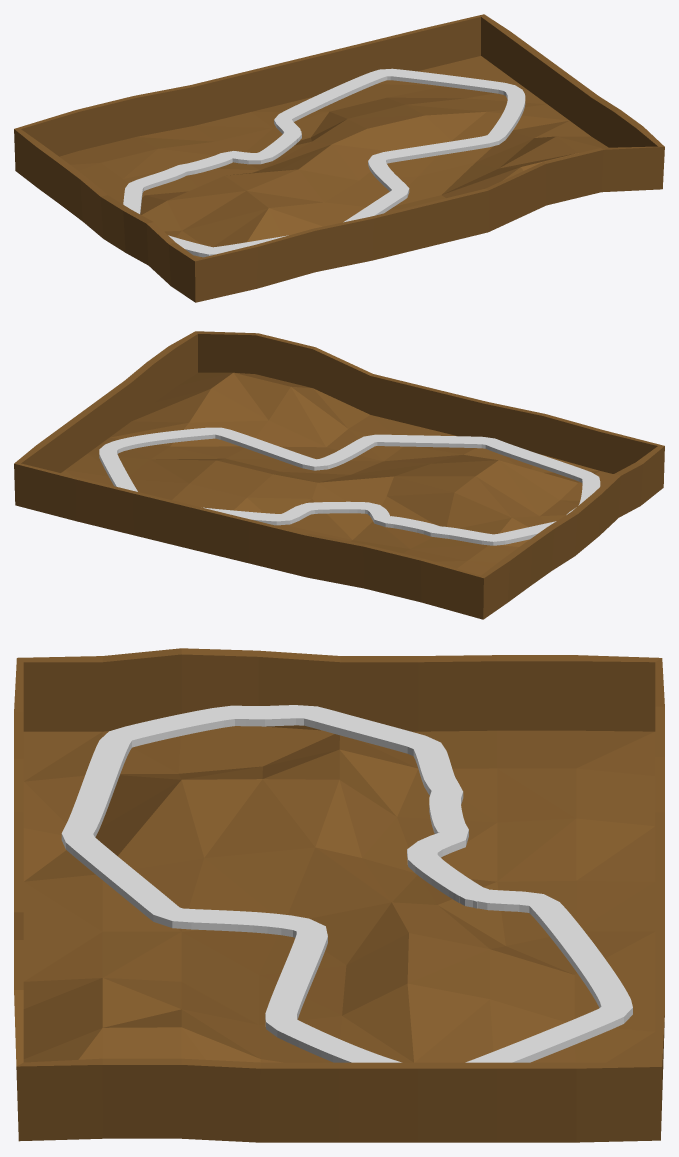
The model's file is tracktwo.fbx.
3 views of the same model, one above another, from view 1: azimuth 30°, elevation 25°; view 2: azimuth 150°, elevation 25°; view 3: azimuth 270°, elevation 25° (orthographic). The views are drawn at different scales.
Parts seen in each view (by area): view 1: Plane.001, Plane; view 2: Plane.001, Plane; view 3: Plane.001, Plane.
Boxes of the visible parts, x1=… form: Plane.001: x1=14, y1=14, x2=664, y2=302; Plane: x1=123, y1=68, x2=525, y2=257; Plane.001: x1=14, y1=331, x2=664, y2=619; Plane: x1=99, y1=427, x2=600, y2=545; Plane.001: x1=14, y1=648, x2=664, y2=1142; Plane: x1=61, y1=705, x2=632, y2=1062.
Size of the model in its own units: 6211 by 758 by 4124.
